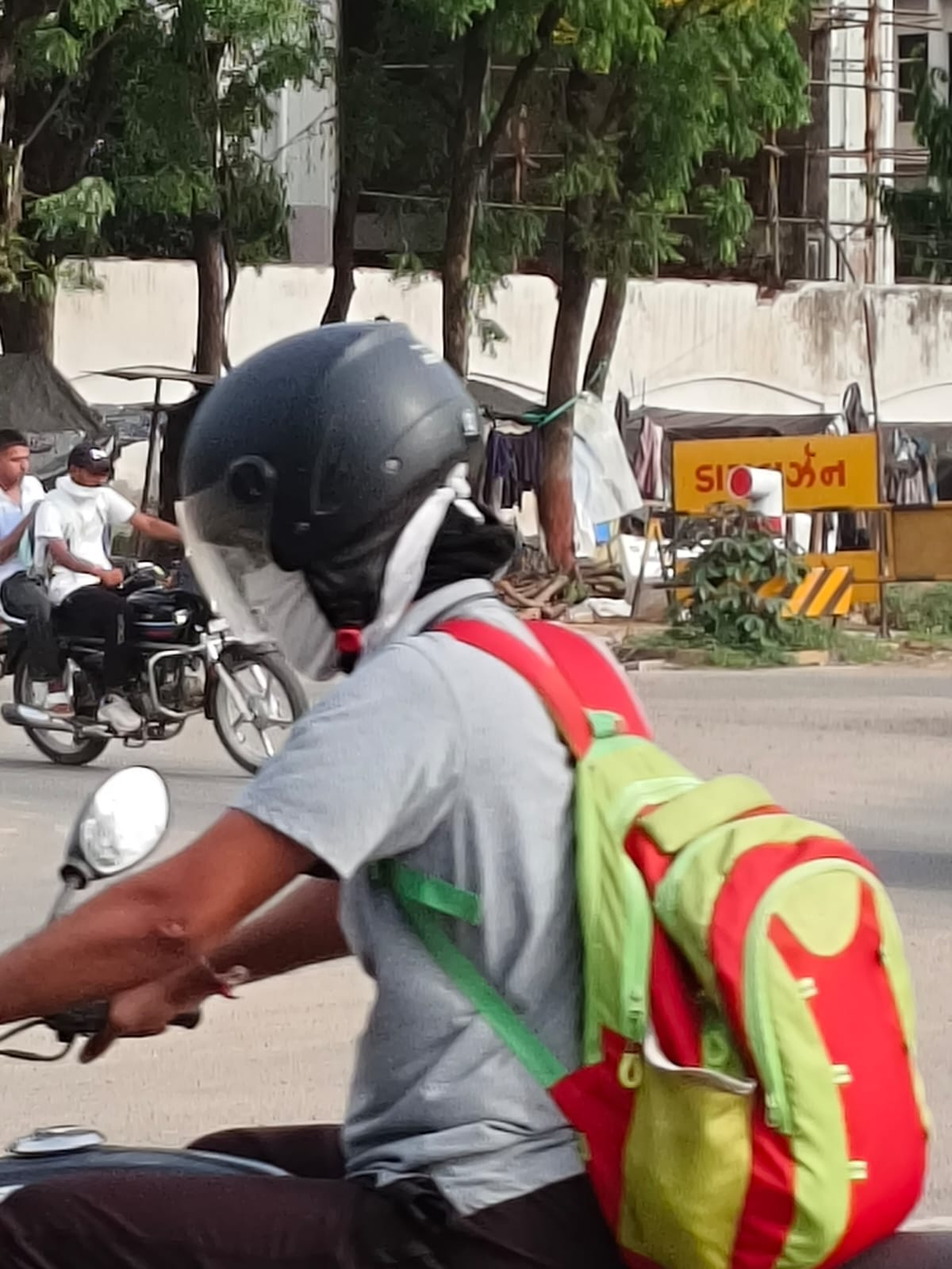BikeWithRider: (4, 309, 952, 1269), (0, 388, 324, 773)
Helmet: (161, 316, 500, 661)
NoHelmet: (64, 424, 128, 504), (0, 419, 34, 507)
